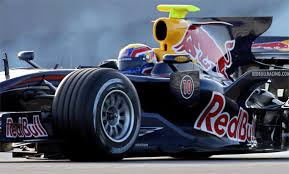f1_car: (1, 2, 289, 165)
